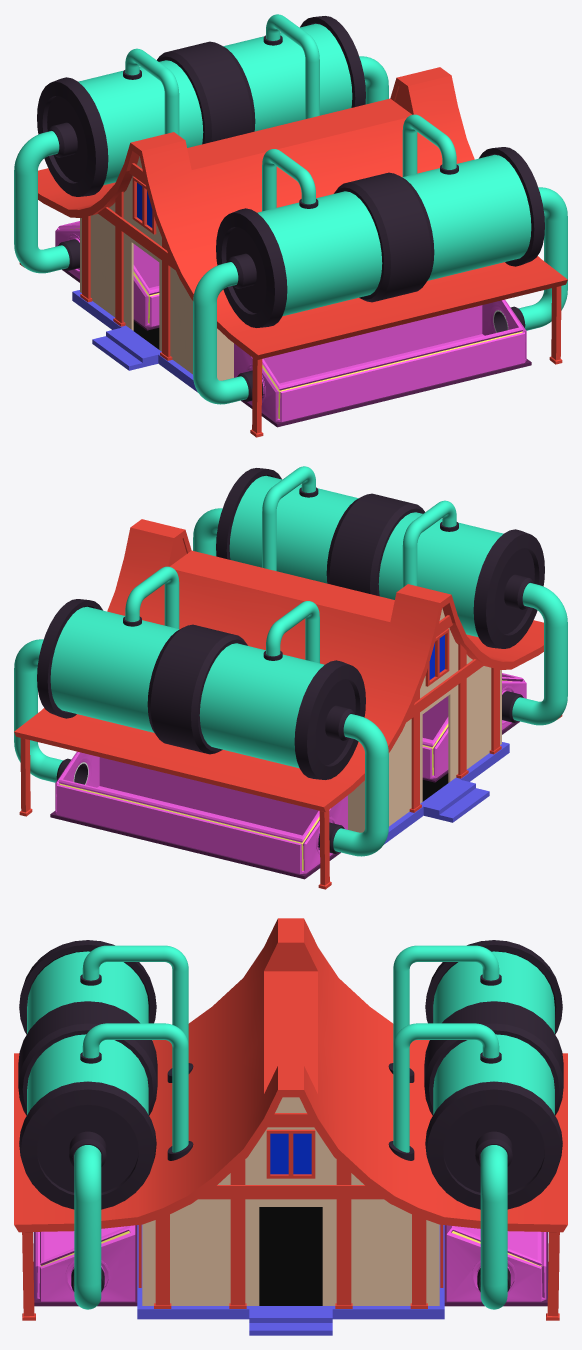
Rendered from LAP1.fbx.
3 renders of one model, top to bottom at view 1: azimuth 30°, elevation 25°; view 2: azimuth 150°, elevation 25°; view 3: azimuth 270°, elevation 25°, orthographic. The views are drawn at different scales.
Visible parts, largest first — view 1: Cube; view 2: Cube; view 3: Cube.
Boxes of the visible parts, x1=… form: Cube: x1=14, y1=14, x2=567, y2=437; Cube: x1=14, y1=466, x2=567, y2=889; Cube: x1=14, y1=918, x2=567, y2=1335.
Size of the model in its own units: 2612 by 1486 by 2973.
